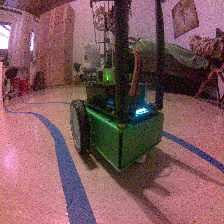rob: (69, 43, 165, 173)
